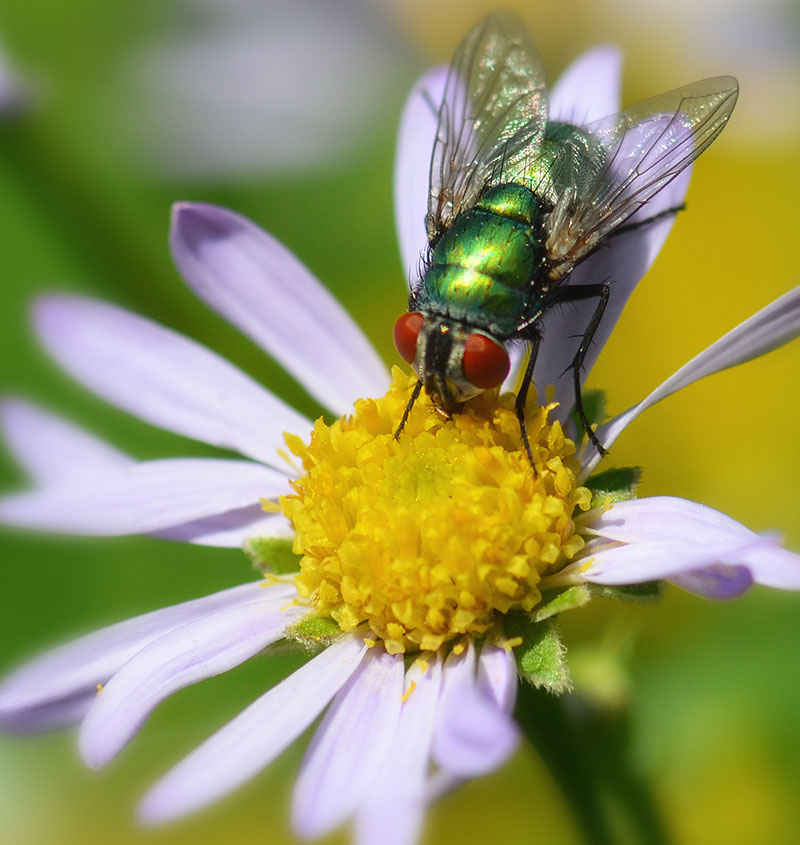green bottles flies: (373, 8, 757, 472)
